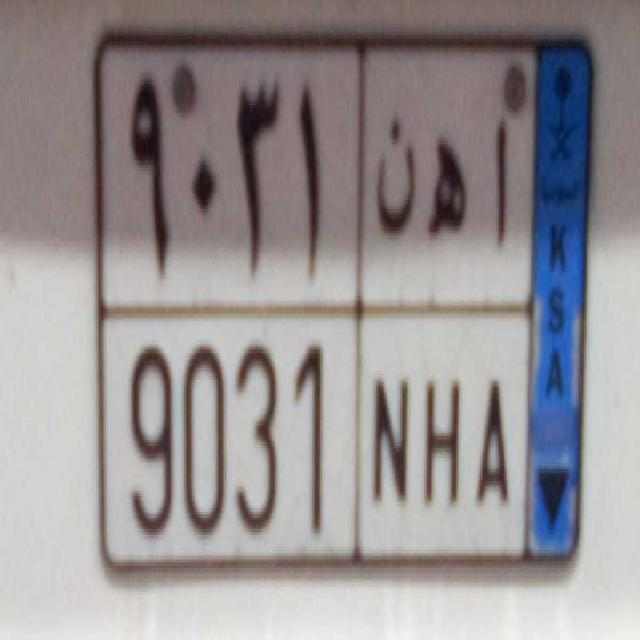license_plate: (110, 297, 524, 578)
